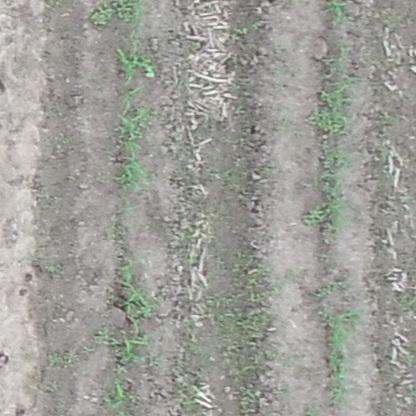corn: (313, 85, 347, 227), (120, 87, 146, 194), (118, 257, 153, 320), (115, 46, 138, 79), (107, 380, 127, 408)
vc: (144, 64, 157, 77)
